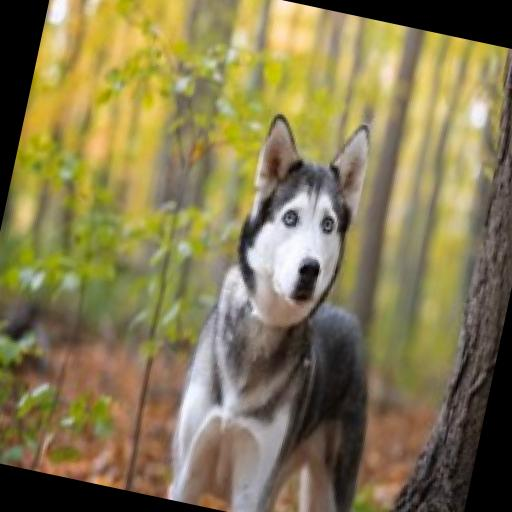dog: (151, 95, 448, 512)
